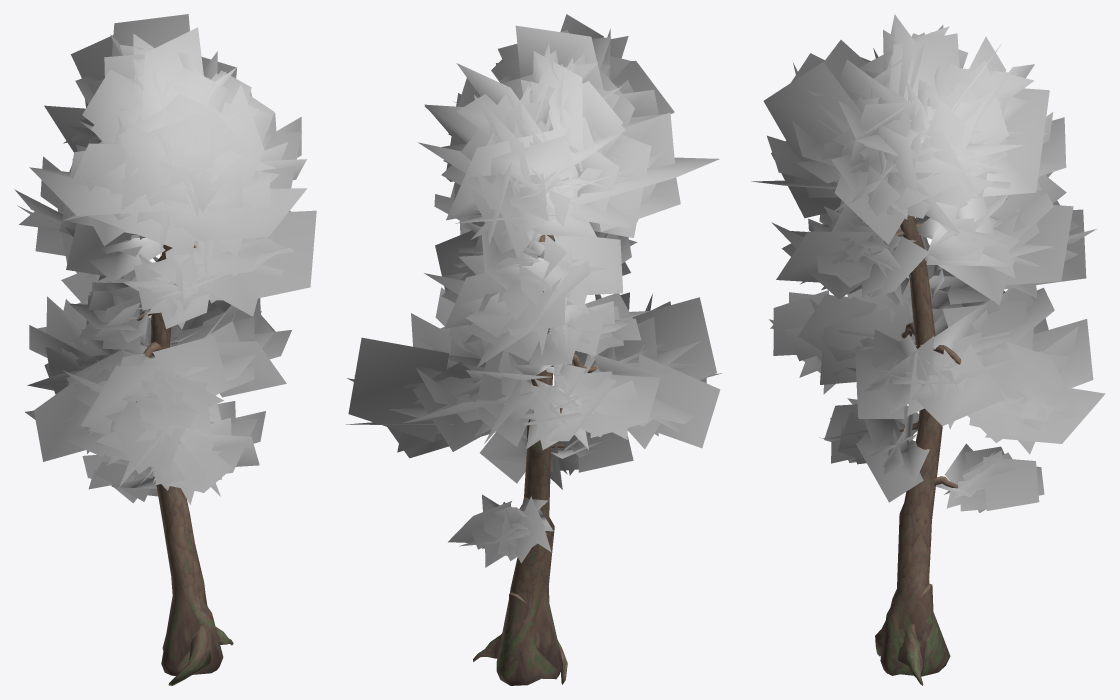
The model's file is SM_EastLands_Conifer_Straight_02.fbx.
3 renders of one model, left to right at view 1: azimuth 30°, elevation 25°; view 2: azimuth 150°, elevation 25°; view 3: azimuth 270°, elevation 25°, orthographic. The views are drawn at different scales.
Parts seen in each view (by area): view 1: SM_EastLands_Conifer_Straight_02_LOD0; view 2: SM_EastLands_Conifer_Straight_02_LOD0; view 3: SM_EastLands_Conifer_Straight_02_LOD0.
Boxes of the visible parts, x1,y1,x2,y2 form: SM_EastLands_Conifer_Straight_02_LOD0: [14, 14, 316, 685]; SM_EastLands_Conifer_Straight_02_LOD0: [346, 14, 721, 685]; SM_EastLands_Conifer_Straight_02_LOD0: [751, 14, 1105, 685].
Size of the model in its own units: 976 by 2077 by 1045.
